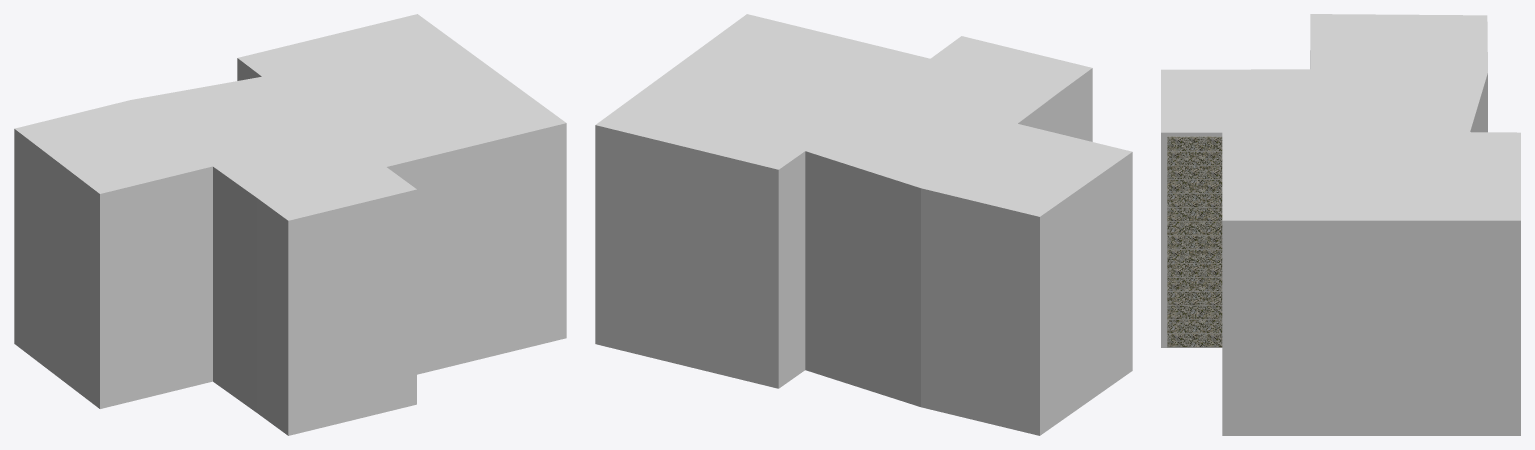
Rendered from BalconyApartment.gltf.
3 views of the same model, side by side, from view 1: azimuth 30°, elevation 25°; view 2: azimuth 150°, elevation 25°; view 3: azimuth 270°, elevation 25° (orthographic).
Visible parts, largest first — view 1: COL; view 2: COL; view 3: COL, building_003.
Part boxes in pixels (x1,y1,x2,y2): COL: (14,14,566,435); COL: (595,14,1132,435); COL: (1161,14,1520,435); building_003: (1167,136,1222,347).
Size of the model in its own units: 164 by 80 by 121.
3 materials, 3 textured.
